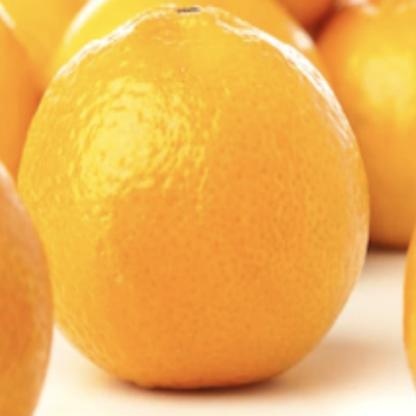fresh: (14, 9, 369, 394)
